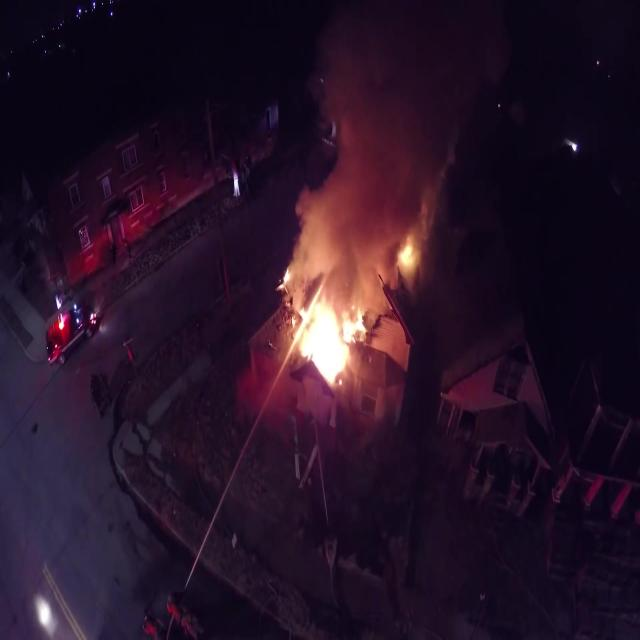fire: (298, 290, 360, 368)
smoke: (341, 80, 407, 249), (302, 205, 332, 263)
